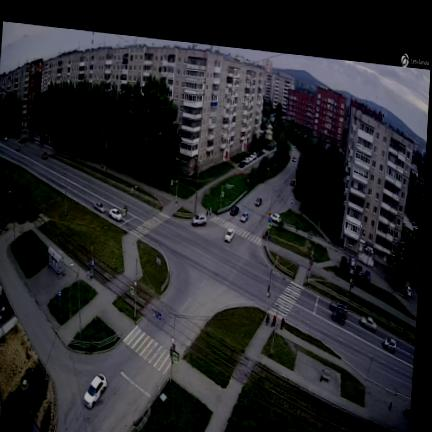bench: (322, 370, 329, 380), (403, 407, 410, 415)
busStop: (48, 247, 64, 276)
busStopSign: (91, 247, 94, 287), (59, 291, 61, 312)
car: (84, 374, 107, 409), (360, 316, 376, 331), (330, 301, 348, 312), (192, 214, 207, 226), (384, 338, 396, 353), (109, 208, 122, 221), (332, 311, 345, 324), (224, 229, 235, 242), (270, 213, 281, 224), (95, 203, 106, 213), (254, 196, 262, 207), (241, 212, 248, 223), (230, 207, 238, 216), (356, 265, 362, 277), (341, 257, 346, 269), (365, 270, 370, 281), (406, 286, 411, 297), (43, 153, 47, 159), (291, 181, 294, 185)
garbageBin: (389, 403, 392, 408)
human: (280, 319, 284, 329), (87, 270, 90, 280), (266, 315, 269, 325), (273, 316, 276, 325), (101, 161, 103, 169), (320, 374, 322, 382), (118, 167, 121, 172), (206, 209, 208, 215), (210, 207, 211, 215)
lightPole: (349, 226, 362, 299), (71, 262, 82, 338), (101, 130, 108, 176), (194, 168, 199, 213), (64, 167, 67, 215)
pedestianCross: (124, 326, 170, 374), (268, 281, 304, 322), (213, 217, 262, 245), (131, 213, 169, 238)
sign: (156, 258, 160, 281), (155, 384, 159, 390)
trafficLight: (265, 259, 277, 309), (123, 186, 136, 229), (169, 337, 179, 381), (130, 274, 139, 318), (170, 179, 178, 209), (266, 214, 272, 247), (308, 249, 313, 282), (220, 187, 224, 209)
truck: (348, 256, 354, 274)
